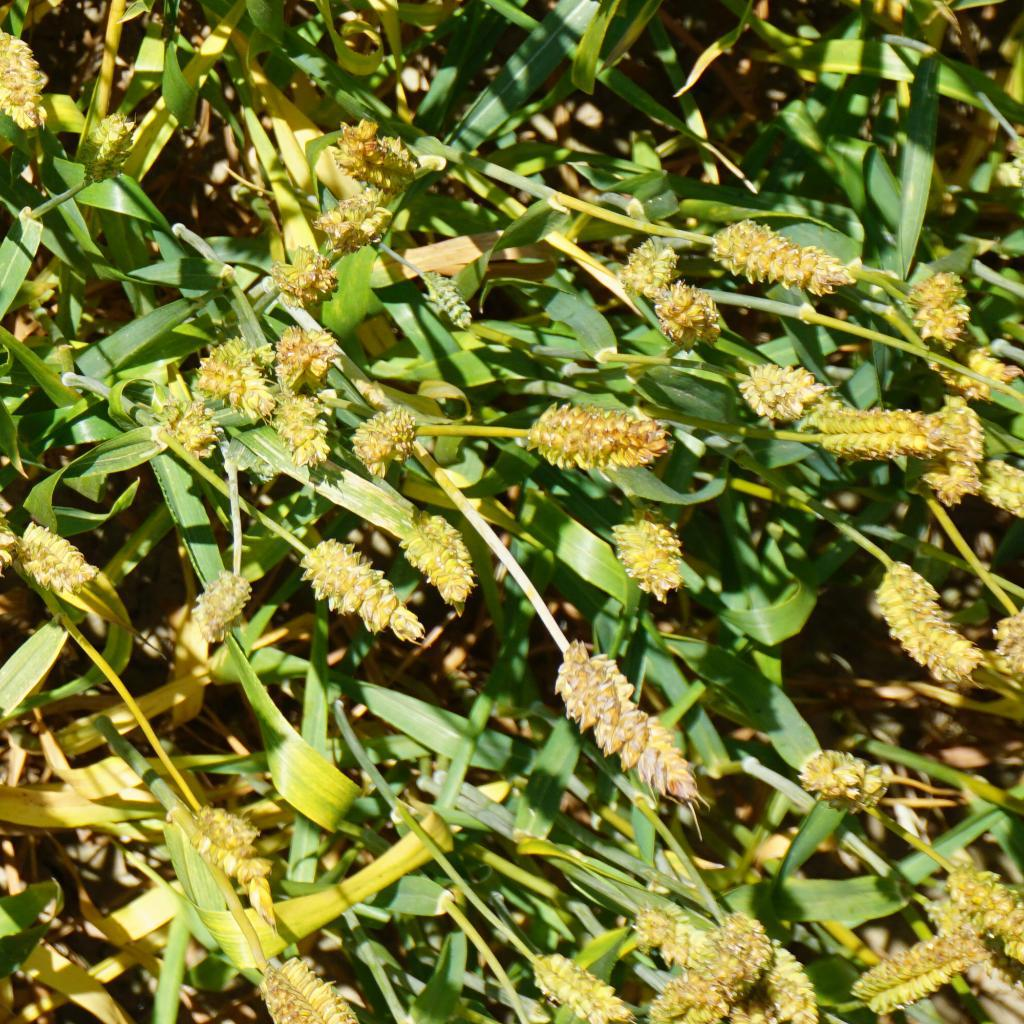0-0: (531, 641, 700, 799), (878, 549, 992, 688), (516, 380, 674, 474), (690, 216, 847, 308), (185, 778, 272, 937), (862, 913, 972, 1020), (387, 502, 482, 625), (305, 543, 425, 640), (328, 113, 430, 202), (918, 397, 992, 515), (11, 515, 107, 602), (784, 737, 888, 816), (525, 948, 625, 1024), (808, 391, 918, 460), (620, 505, 692, 609), (740, 346, 828, 430), (257, 956, 348, 1024), (344, 401, 422, 480), (260, 327, 350, 395), (939, 332, 1020, 406), (72, 108, 144, 191), (764, 939, 833, 1024), (944, 868, 1024, 941), (0, 26, 55, 131), (258, 241, 344, 307), (187, 570, 257, 646), (150, 377, 214, 457), (619, 232, 691, 301), (650, 276, 719, 347), (703, 918, 774, 986), (318, 196, 400, 254), (418, 267, 491, 332), (920, 260, 971, 349), (622, 903, 701, 960), (210, 335, 263, 417), (272, 394, 332, 466), (643, 968, 714, 1024), (986, 605, 1024, 669), (978, 465, 1024, 516)
